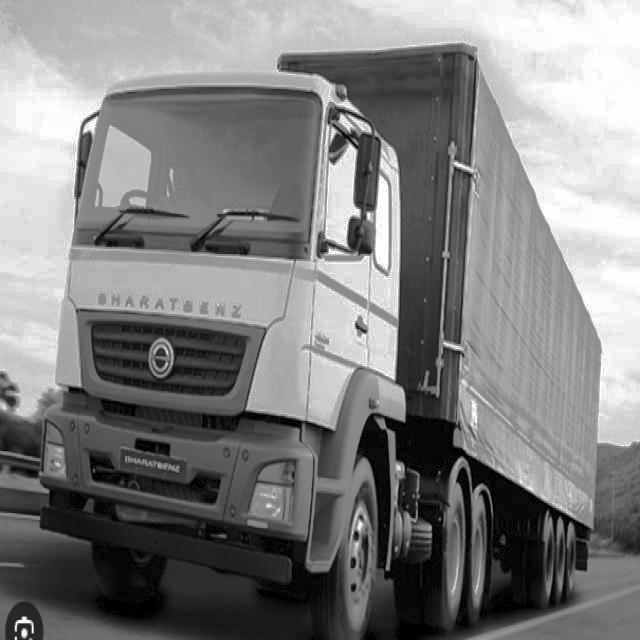HCV: (30, 21, 604, 637)
